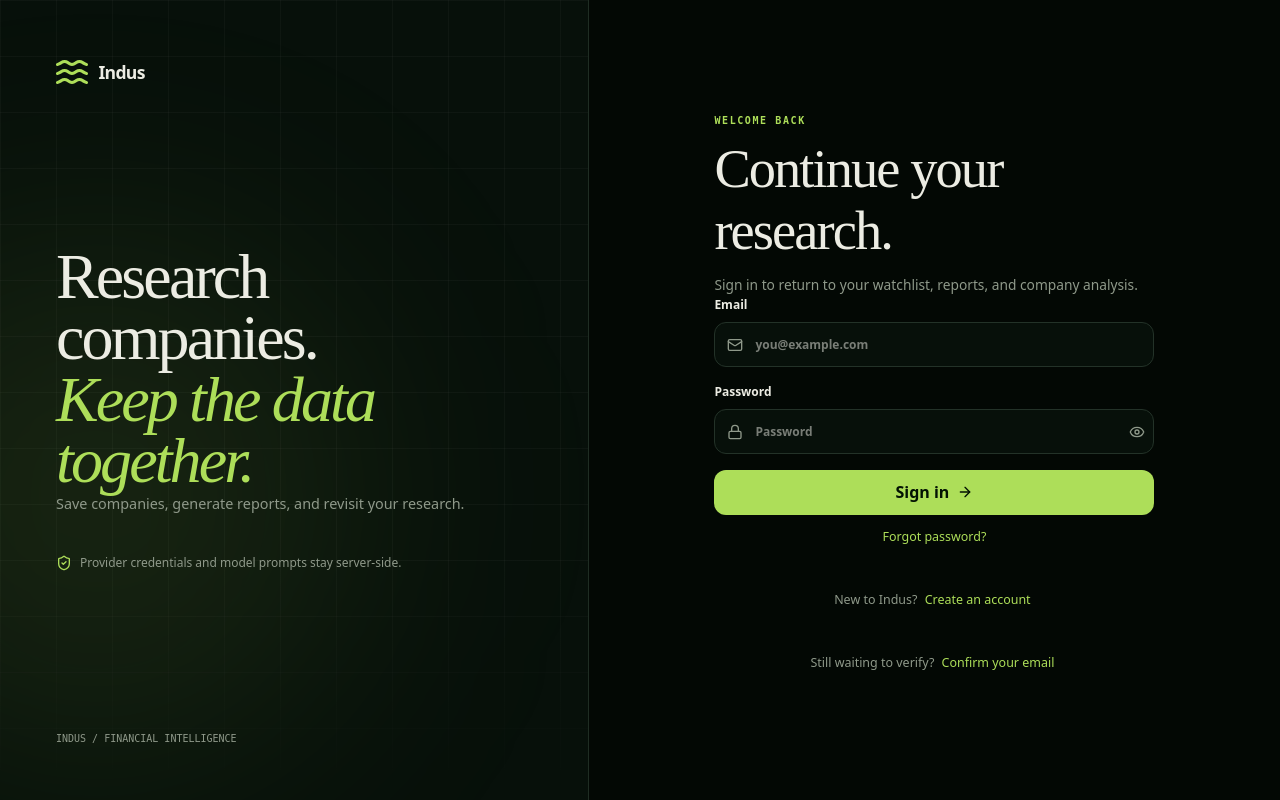
Test: application routing › hands off to sign-in when automatic sign-in fails after confirmation
The width and height of the screenshot is (1280, 800).
Click the button "Create an account" at coordinates (978, 600), box [921,578,1035,622]
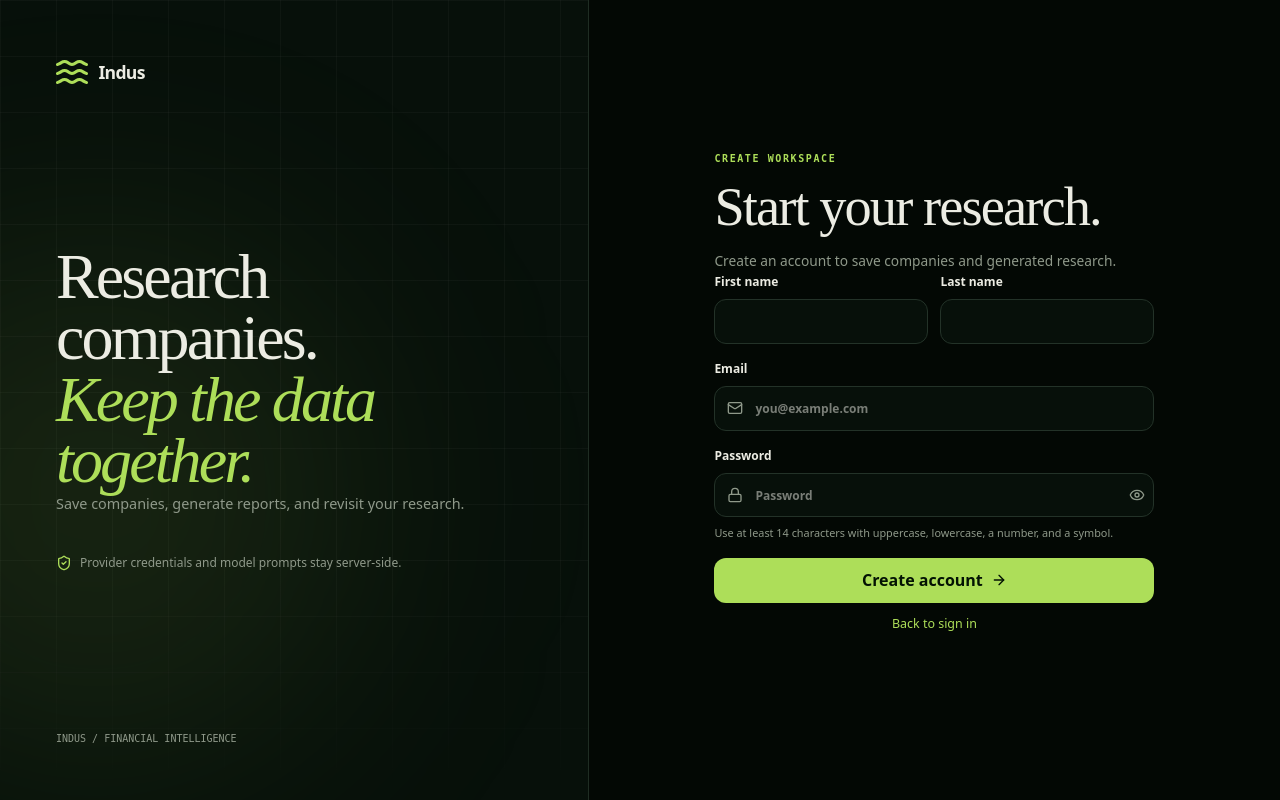
Type "Avery" into the field labelled "First name" at coordinates (821, 322), box [714,299,928,344]
Type "Investor" into the field labelled "Last name" at coordinates (1047, 322), box [940,299,1154,344]
Type "user@example.test" into the field labelled "Email" at coordinates (934, 408), box [714,386,1154,431]
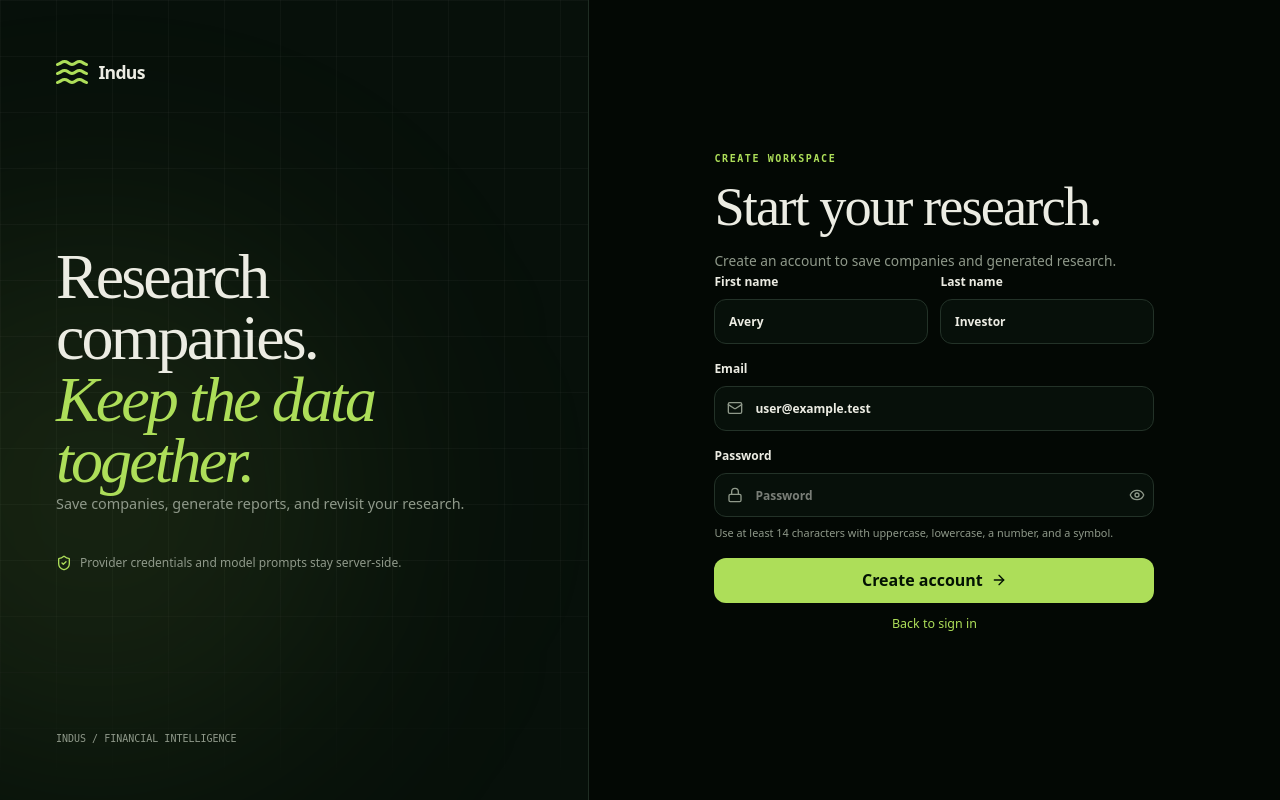
Type "Password123!Secure" into the password field labelled "Password" at coordinates (934, 495), box [714,473,1154,518]
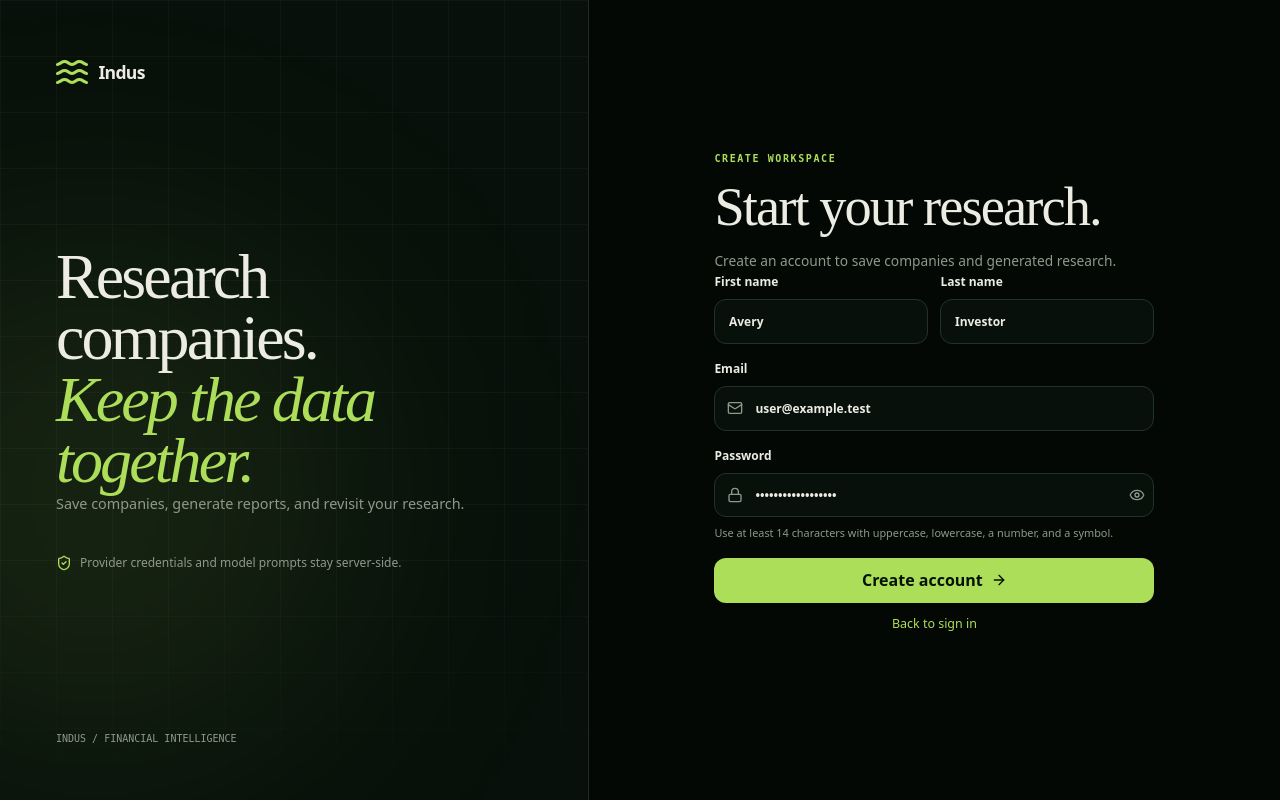
Click the button "Create account" at coordinates (934, 580), box [714,558,1154,603]
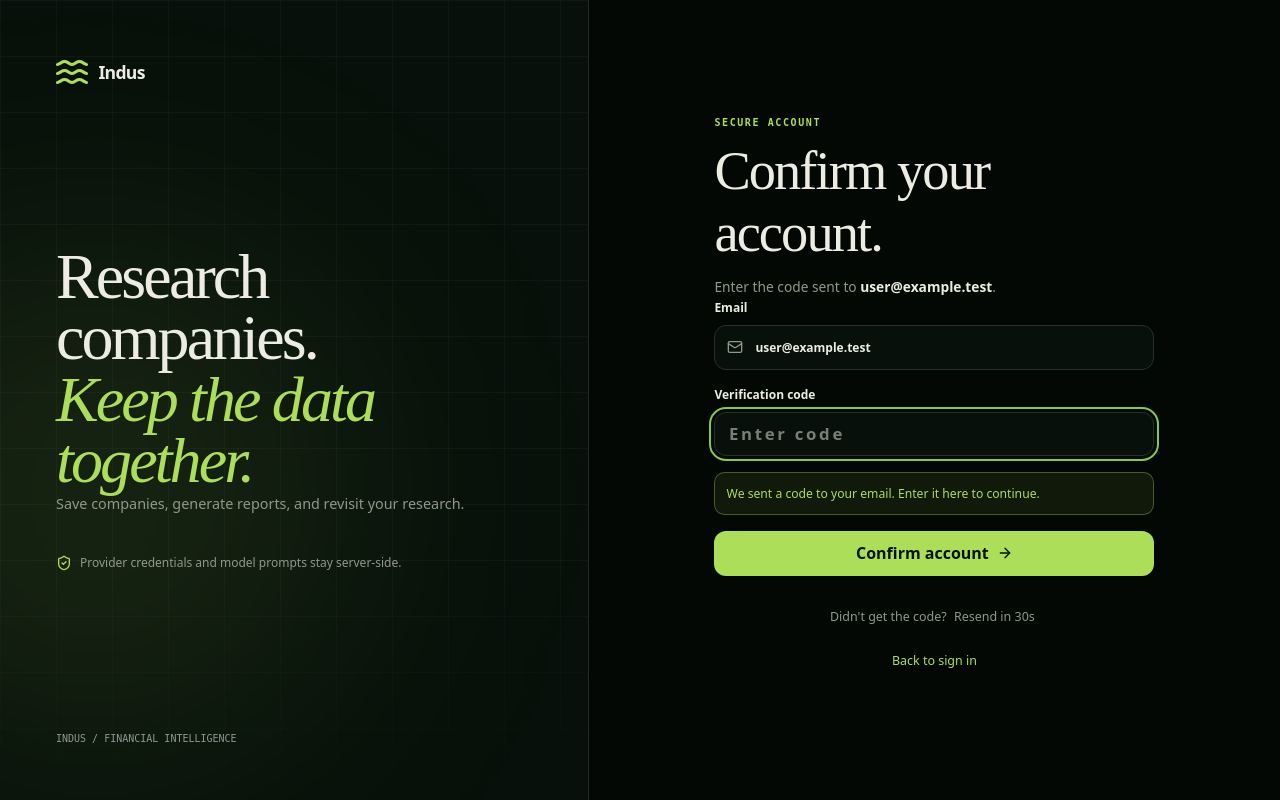
Result: the heading "Confirm your account." is shown at [714,141,989,263]
Type "123456" into the field labelled "Verification code" at coordinates (934, 434), box [714,412,1154,456]
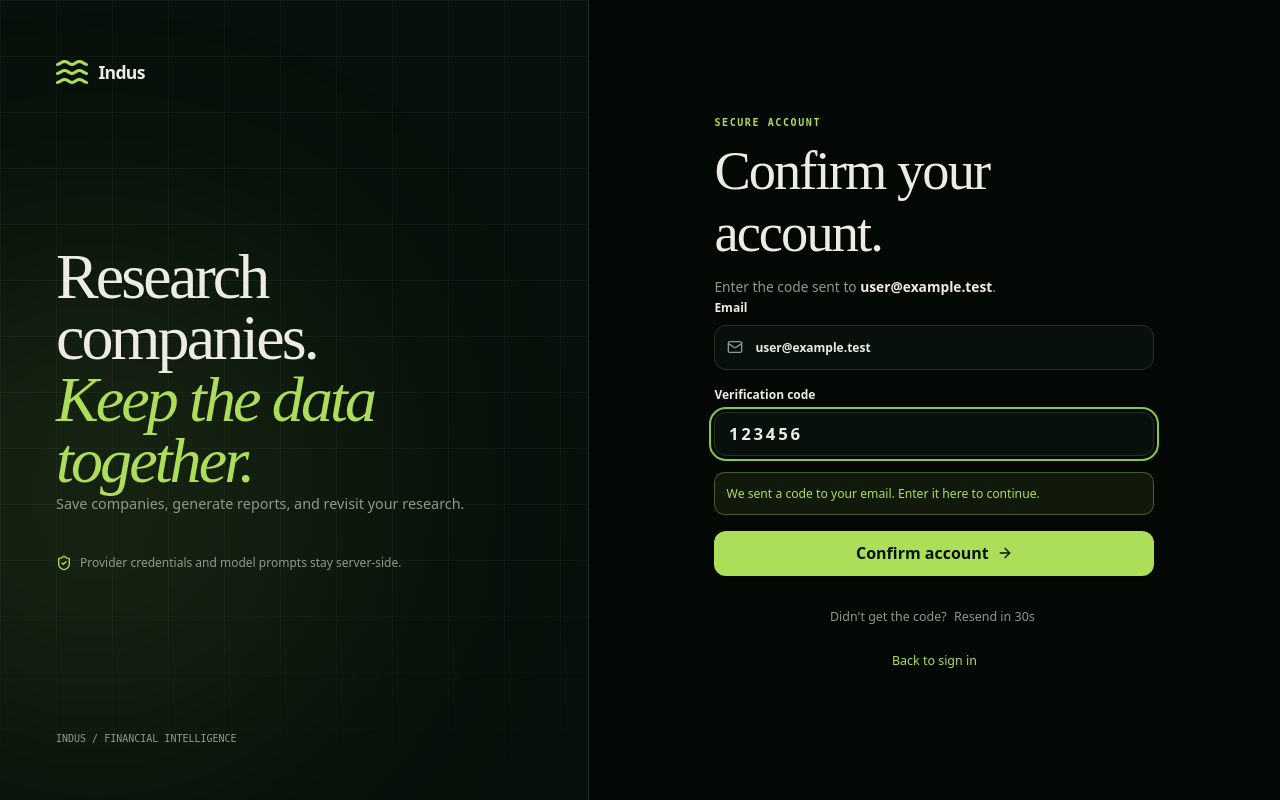
Click the button "Confirm account" at coordinates (934, 553), box [714,531,1154,576]
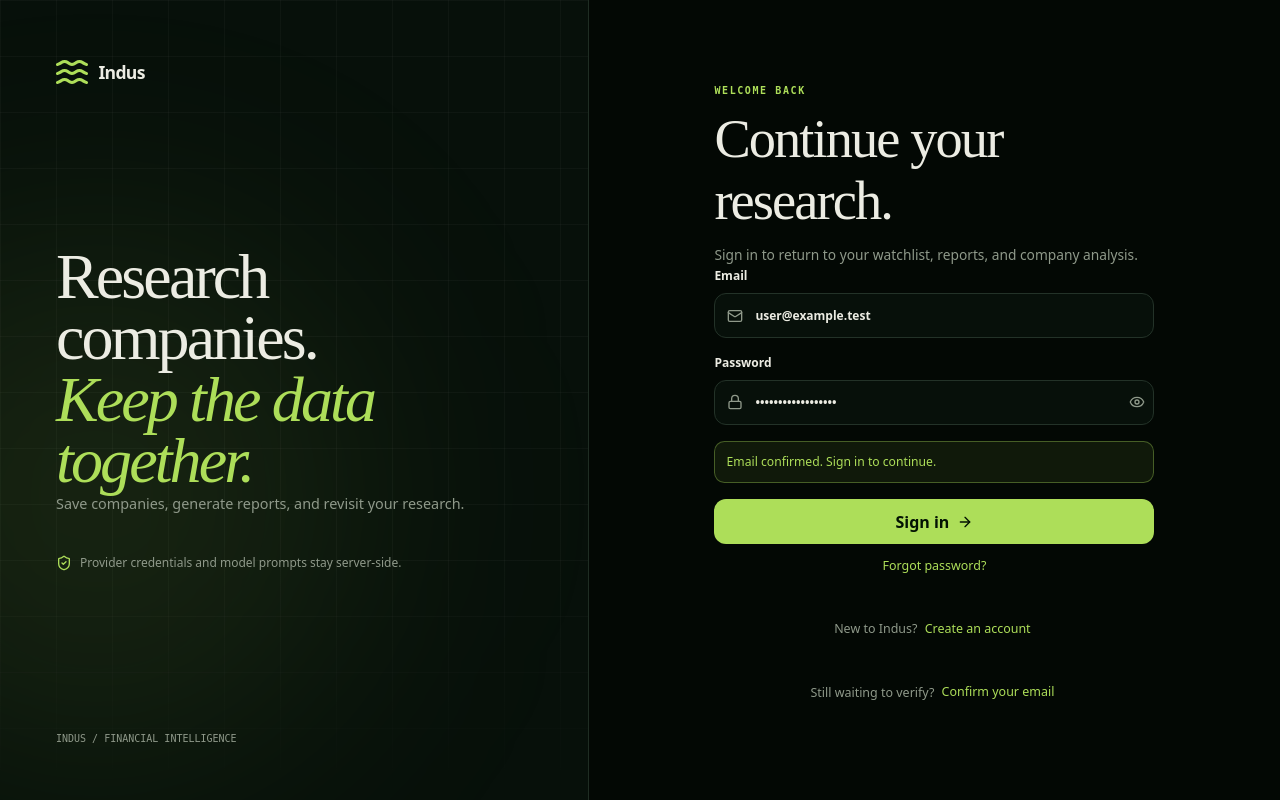
Result: the text "Email confirmed. Sign in to continue." is shown at [714,441,1154,483]
Result: the heading "Continue your research." is shown at [714,110,1002,232]
